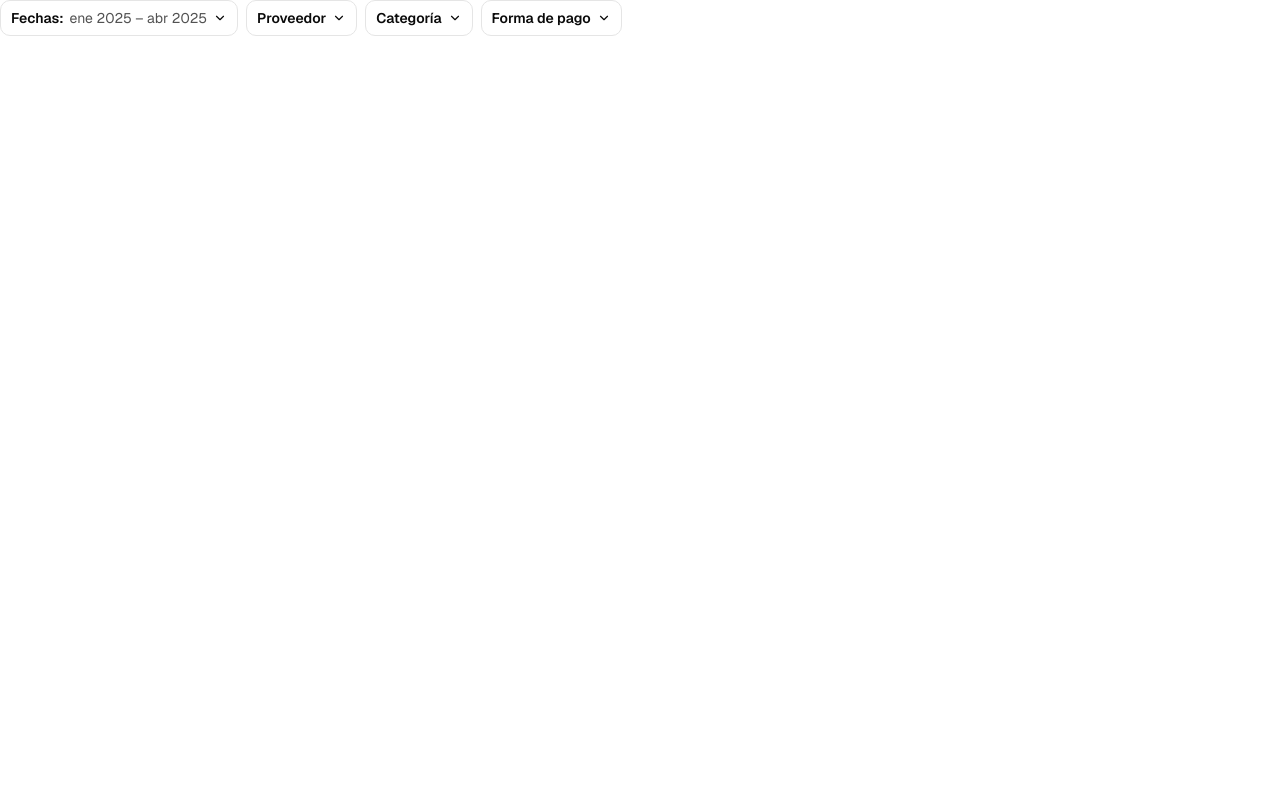
FilterBar category filter (FILT-03, D-15, D-28) › lists '{nombre} ({n})' by count then name, every category included with (0)
Click the button "Categoría".
click(419, 18)  # box [365,0,473,36]
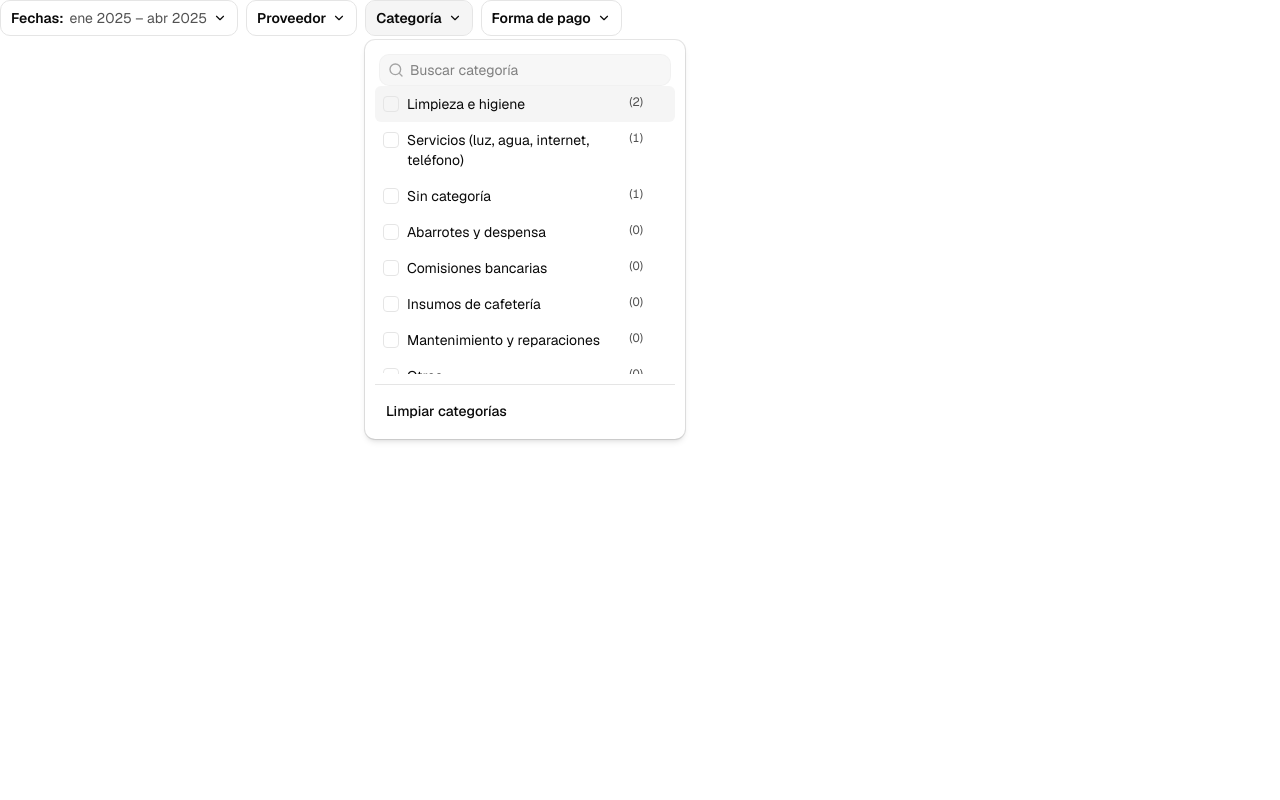
Now the dropdown with placeholder "Buscar categoría" is shown, box [404,60,670,80]
Now the button "Limpiar categorías" is shown, box [375,393,675,429]
